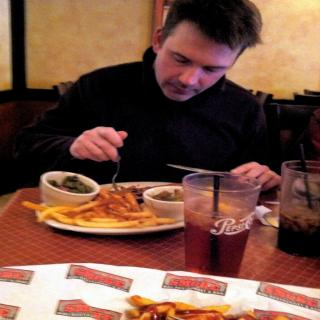French fries: (41, 190, 179, 232), (129, 296, 287, 320)
